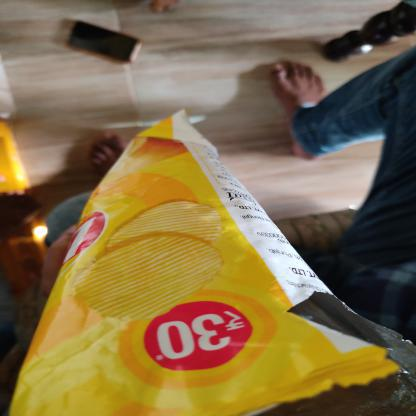classicsalted: (7, 106, 415, 415)
